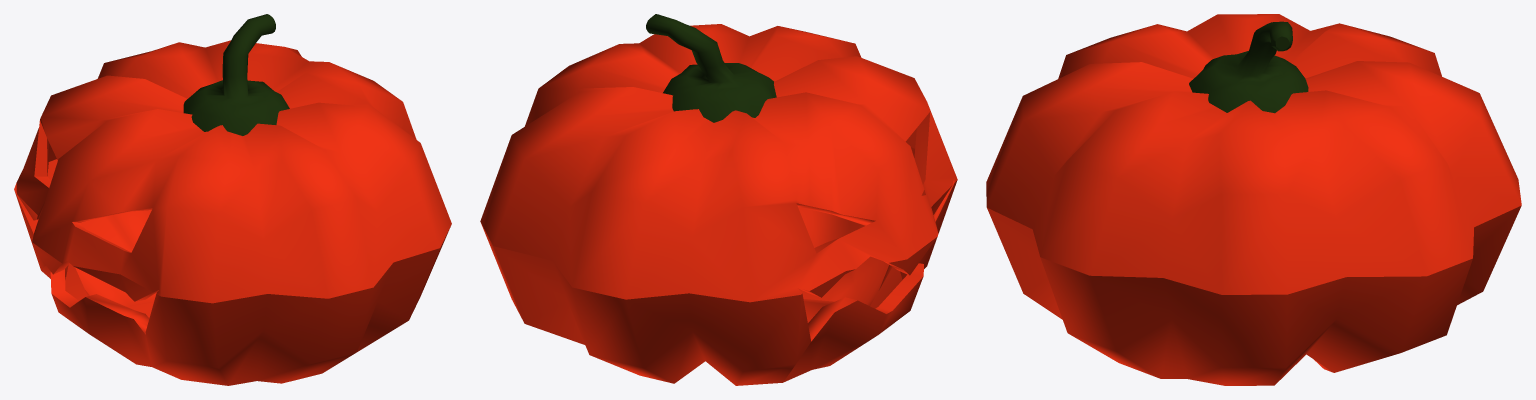
File: JackOLantern02.fbx
3 renders of one model, left to right at view 1: azimuth 30°, elevation 25°; view 2: azimuth 150°, elevation 25°; view 3: azimuth 270°, elevation 25°, orthographic. The views are drawn at different scales.
Parts seen in each view (by area): view 1: PumpkinLamp02; view 2: PumpkinLamp02; view 3: PumpkinLamp02.
Boxes of the visible parts, x1=… form: PumpkinLamp02: x1=14, y1=14, x2=451, y2=385; PumpkinLamp02: x1=480, y1=14, x2=957, y2=385; PumpkinLamp02: x1=986, y1=14, x2=1521, y2=385.
Size of the model in its own units: 37.03 by 28.92 by 41.34.
